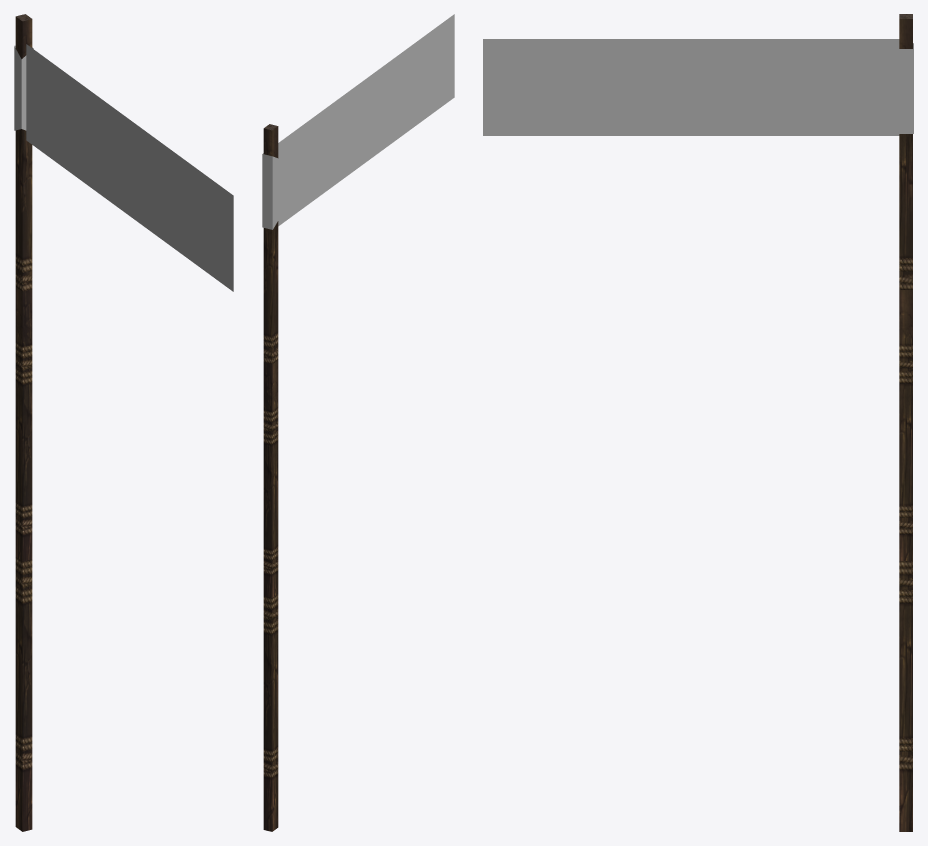
File: A_qizhi_001.fbx
3 views of the same model, side by side, from view 1: azimuth 30°, elevation 25°; view 2: azimuth 150°, elevation 25°; view 3: azimuth 270°, elevation 25° (orthographic). The views are drawn at different scales.
Parts seen in each view (by area): view 1: A_qizhi_001; view 2: A_qizhi_001; view 3: A_qizhi_001.
Boxes of the visible parts, x1,y1,x2,y2 form: A_qizhi_001: [14, 14, 233, 831]; A_qizhi_001: [262, 14, 454, 831]; A_qizhi_001: [483, 14, 913, 831].
Bounding box in the file's own units: 5.86 × 380 × 182.
